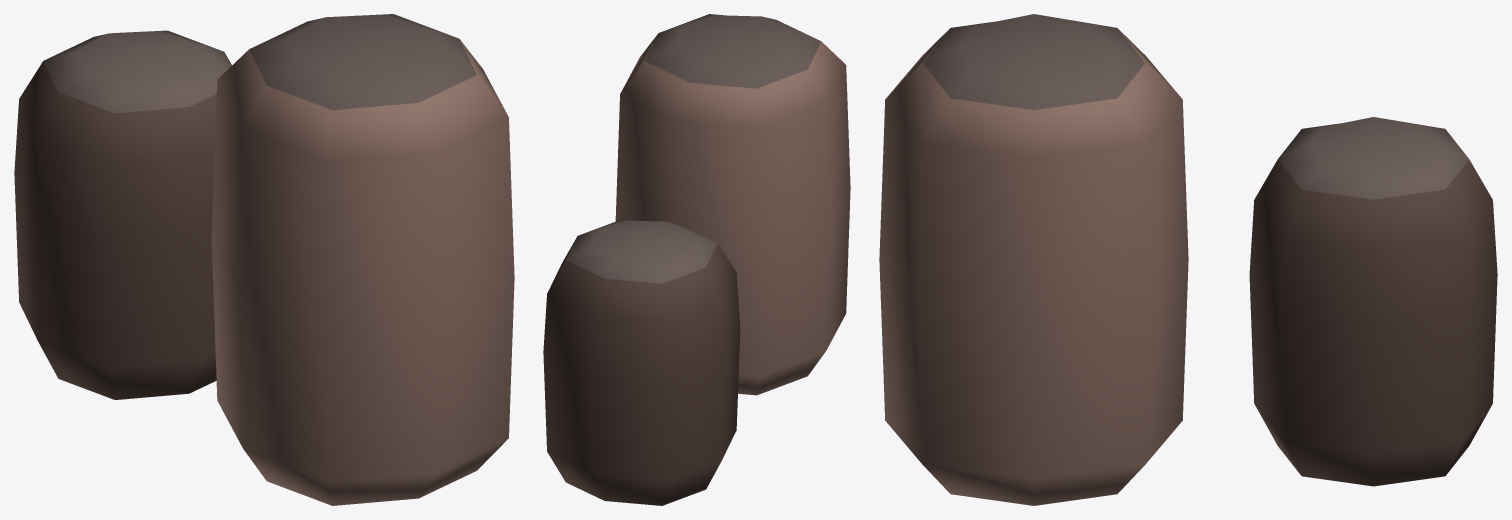
Rendered from tunnlar.fbx.
The picture shows the model from 3 angles, left to right: view 1: azimuth 30°, elevation 25°; view 2: azimuth 150°, elevation 25°; view 3: azimuth 270°, elevation 25°; orthographic projection. The views are drawn at different scales.
Visible parts, largest first — view 1: pCube2, pCube1; view 2: pCube2, pCube1; view 3: pCube2, pCube1.
Boxes of the visible parts, left/top/right/bottom form: pCube2: left=211, top=14, right=514, bottom=505; pCube1: left=14, top=30, right=231, bottom=399; pCube2: left=615, top=14, right=850, bottom=395; pCube1: left=543, top=219, right=740, bottom=505; pCube2: left=879, top=14, right=1188, bottom=505; pCube1: left=1249, top=117, right=1497, bottom=486.
Size of the model in its own units: 1.91 by 2.89 by 3.61.
